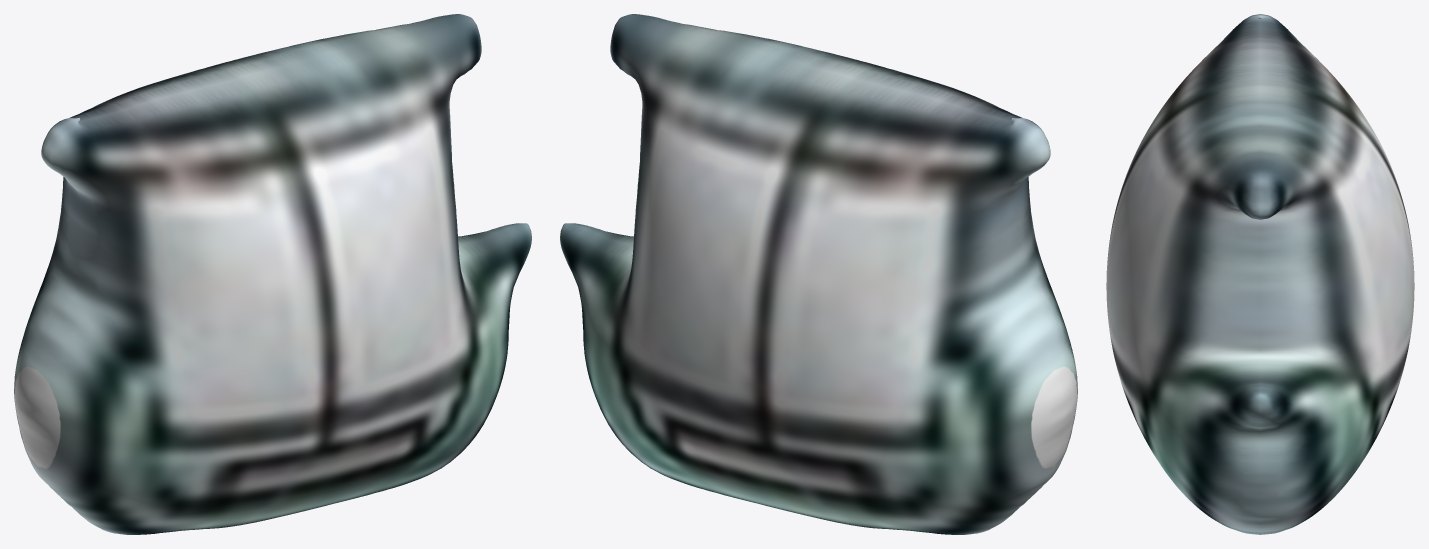
File: GreenBoat.fbx
3 views of the same model, side by side, from view 1: azimuth 30°, elevation 25°; view 2: azimuth 150°, elevation 25°; view 3: azimuth 270°, elevation 25° (orthographic). The views are drawn at different scales.
Visible parts, largest first — view 1: GreenBoat_frame; view 2: GreenBoat_frame; view 3: GreenBoat_frame.
Boxes of the visible parts, x1,y1,x2,y2 form: GreenBoat_frame: [14, 14, 531, 534]; GreenBoat_frame: [560, 14, 1077, 534]; GreenBoat_frame: [1106, 14, 1414, 534].
Size of the model in its own units: 105 by 87.73 by 63.84.
1 material, 1 textured.
